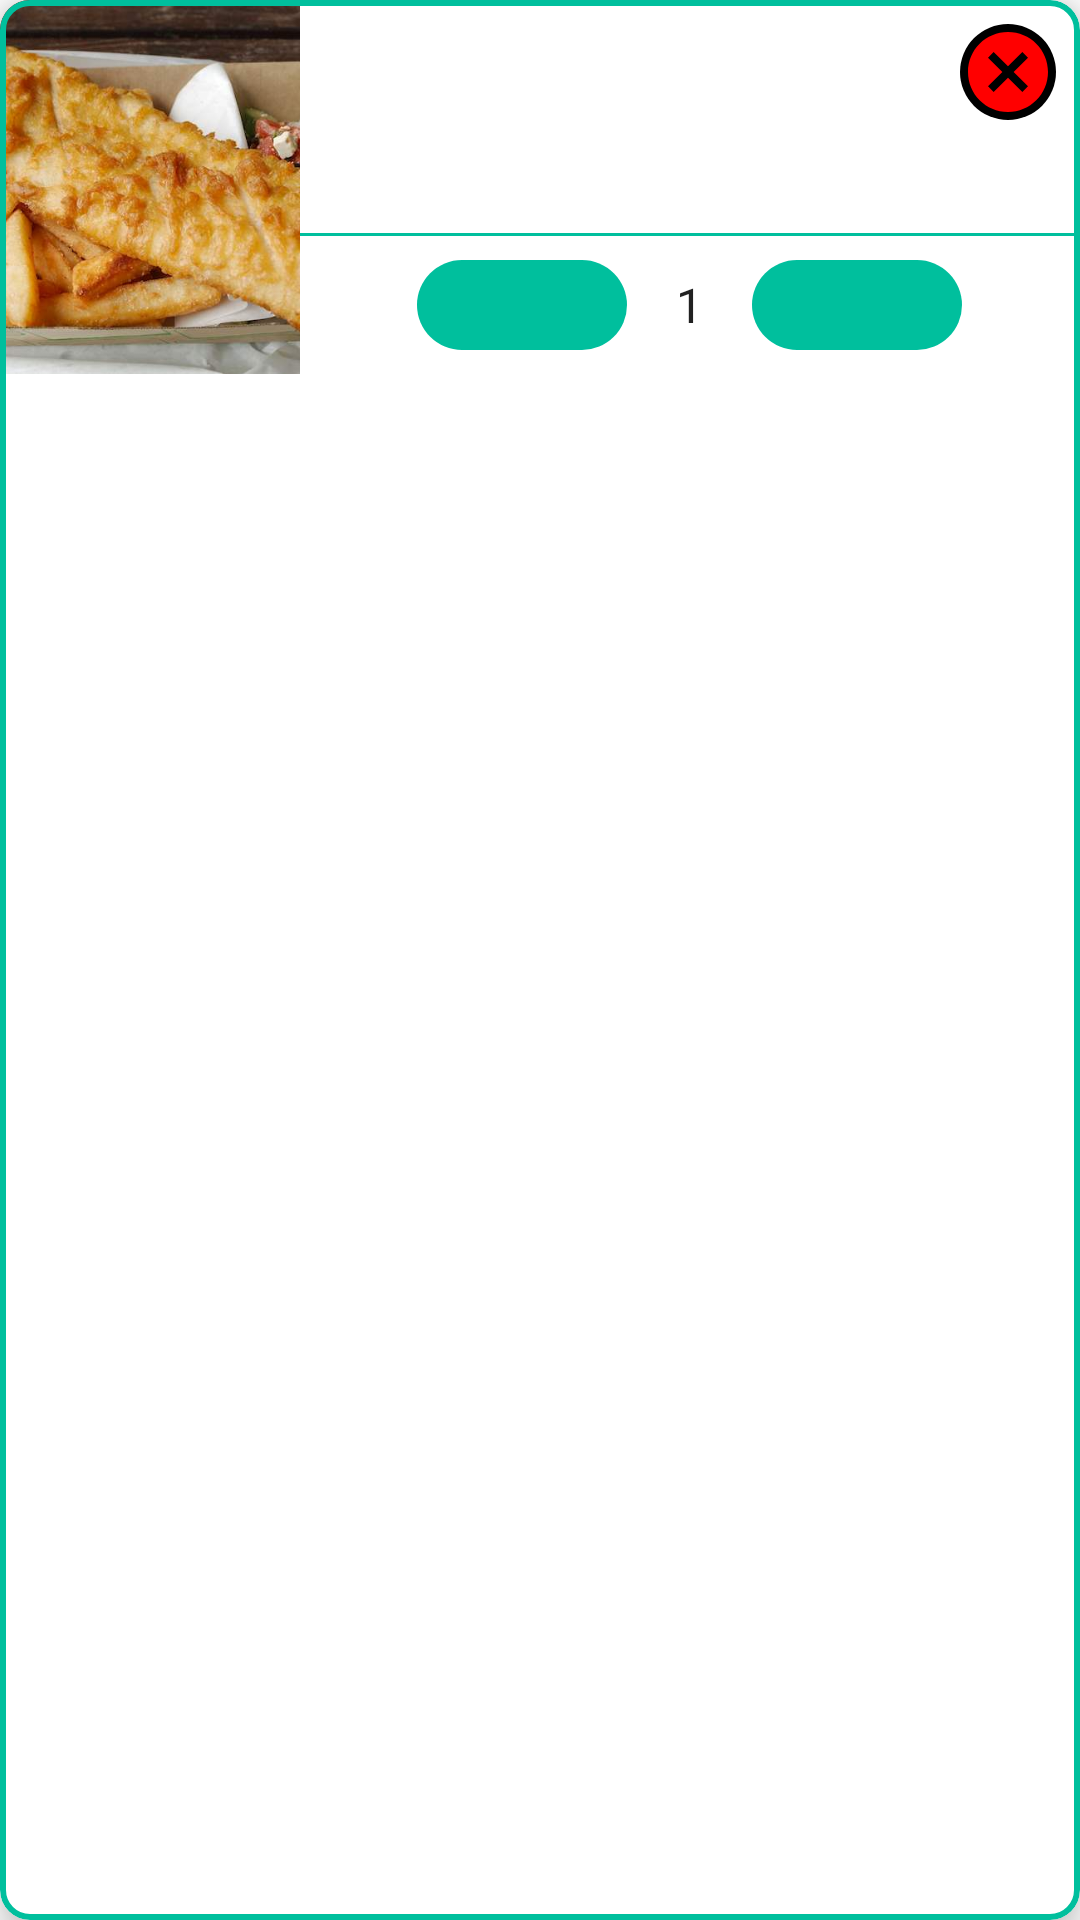

Named icons in this screenshot (1080px×1920px) and their bounding boxes, {"x1": x1, "y1": y1, "x2": x2, "y2": y2}:
cancel: {"x1": 960, "y1": 24, "x2": 1056, "y2": 120}
